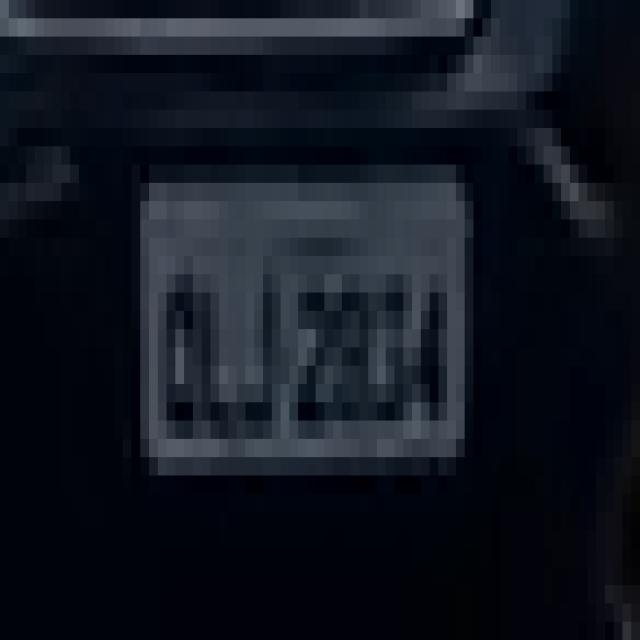Placa_mercosul_carro: (144, 199, 467, 472)
